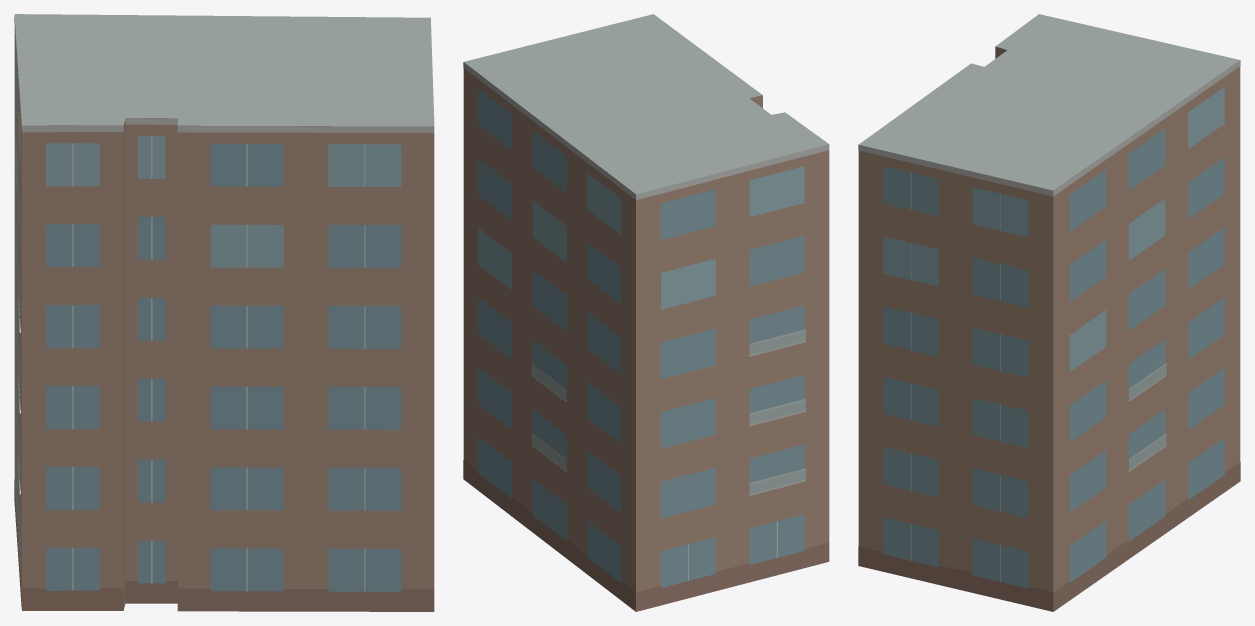
Rendered from survey-upis-32940362.glb.
3 views of the same model, side by side, from view 1: azimuth 30°, elevation 25°; view 2: azimuth 150°, elevation 25°; view 3: azimuth 270°, elevation 25° (orthographic). The views are drawn at different scales.
Visible parts, largest first — view 1: survey-upis-32940362.tmp; view 2: survey-upis-32940362.tmp; view 3: survey-upis-32940362.tmp.
Boxes of the visible parts, x1,y1,x2,y2 form: survey-upis-32940362.tmp: (14, 14, 434, 611); survey-upis-32940362.tmp: (463, 14, 829, 611); survey-upis-32940362.tmp: (858, 14, 1240, 611).
Size of the model in its own units: 15.84 by 17.6 by 14.47.
